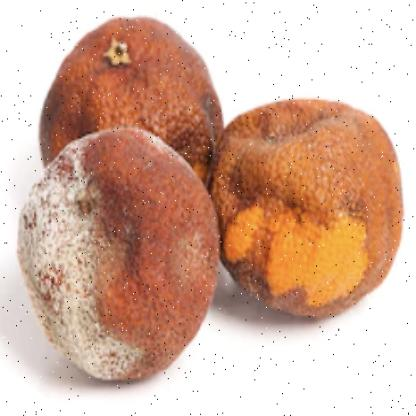rotten: (20, 14, 404, 380)
